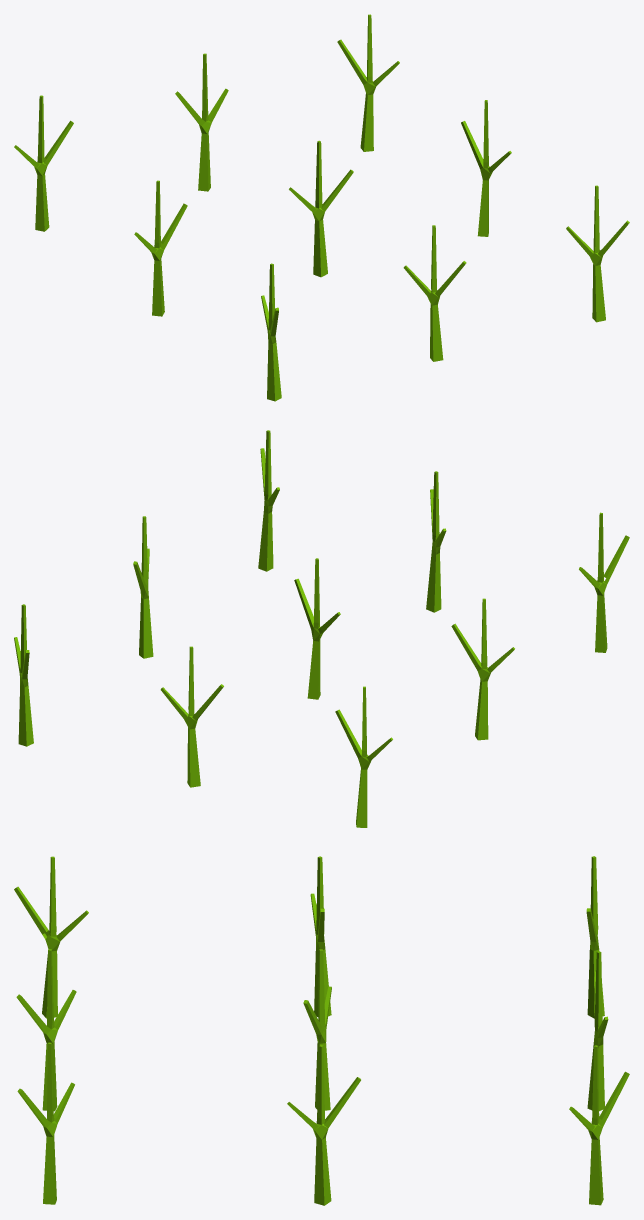
Rendered from corn_small_plant.glb.
The picture shows the model from 3 angles, top to bottom: view 1: azimuth 30°, elevation 25°; view 2: azimuth 150°, elevation 25°; view 3: azimuth 270°, elevation 25°; orthographic projection. The views are drawn at different scales.
Parts seen in each view (by area): view 1: CornSmallPlant; view 2: CornSmallPlant; view 3: CornSmallPlant.
Boxes of the visible parts, <box> form: CornSmallPlant: <box>14,14,629,401</box>; CornSmallPlant: <box>14,430,629,827</box>; CornSmallPlant: <box>14,856,629,1205</box>.
Size of the model in its own units: 0.6527 by 0.222 by 0.7864.
